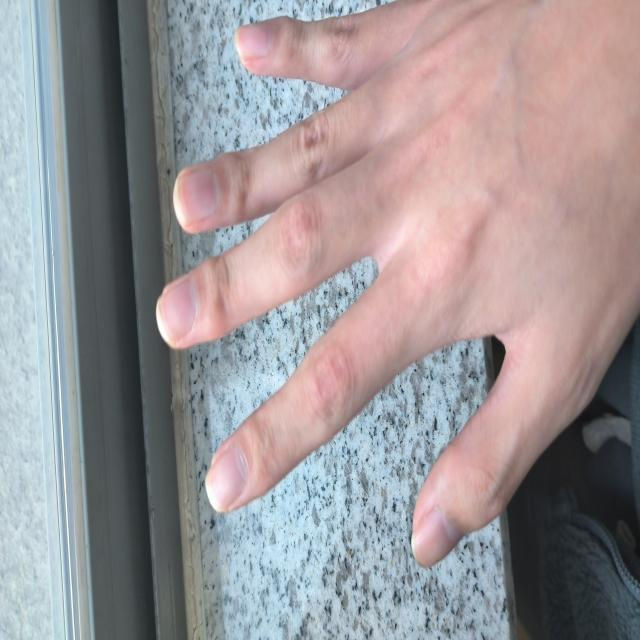Nail: (411, 507, 464, 568), (205, 443, 246, 512), (177, 169, 219, 226), (158, 279, 197, 338), (235, 24, 273, 61)
